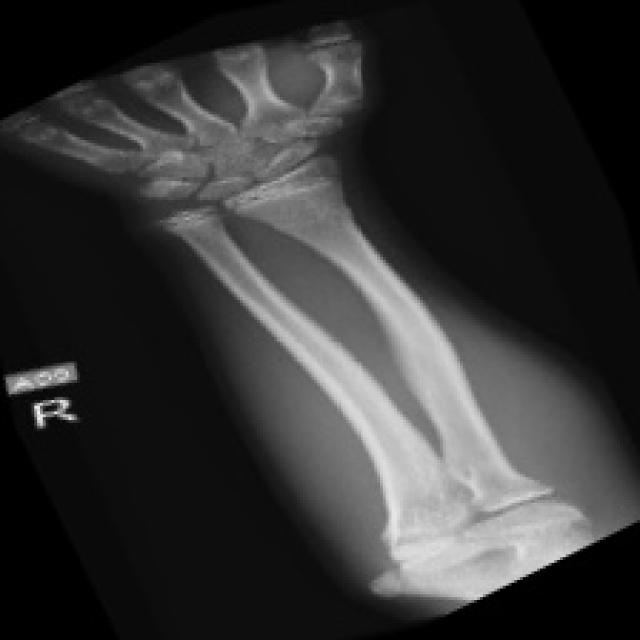fracture: (366, 297, 499, 437)
